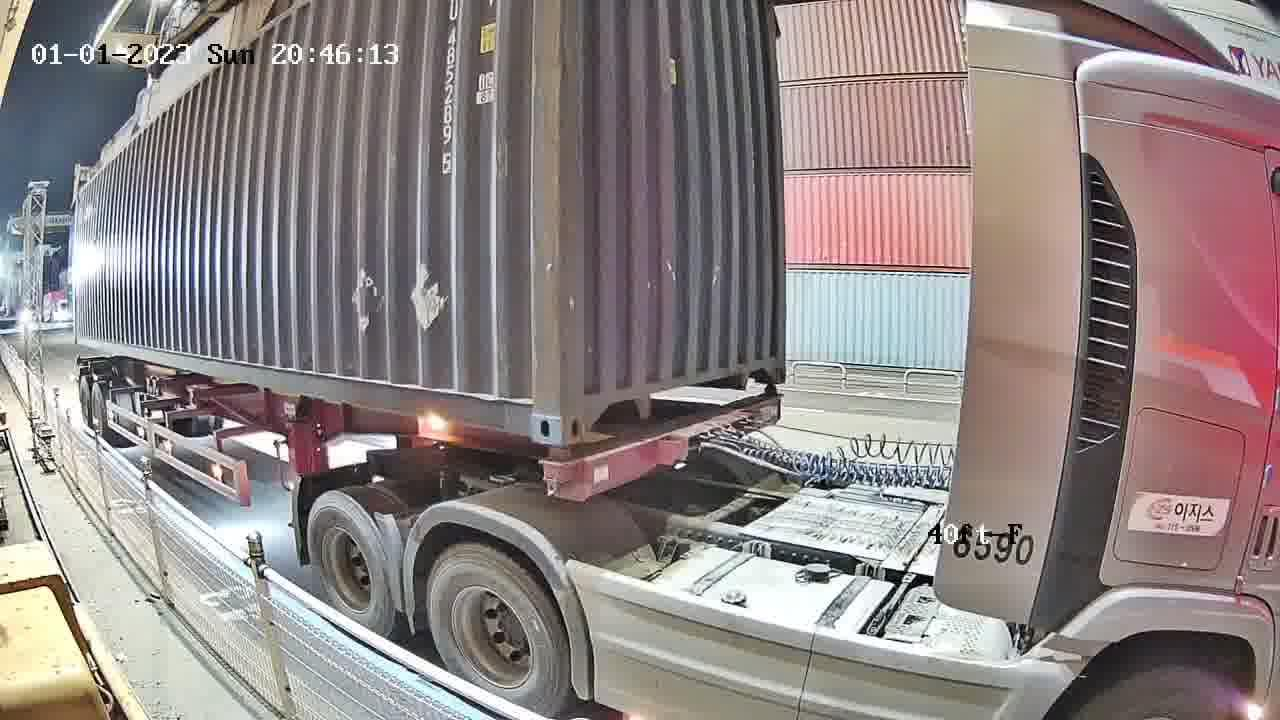Chassis: (546, 390, 781, 499)
Cone: (544, 444, 574, 498), (765, 384, 781, 407)
Hole_L: (561, 388, 606, 443)
Hole_R: (514, 390, 560, 441), (760, 353, 786, 388)
Tire: (429, 548, 566, 714), (307, 496, 390, 632)
